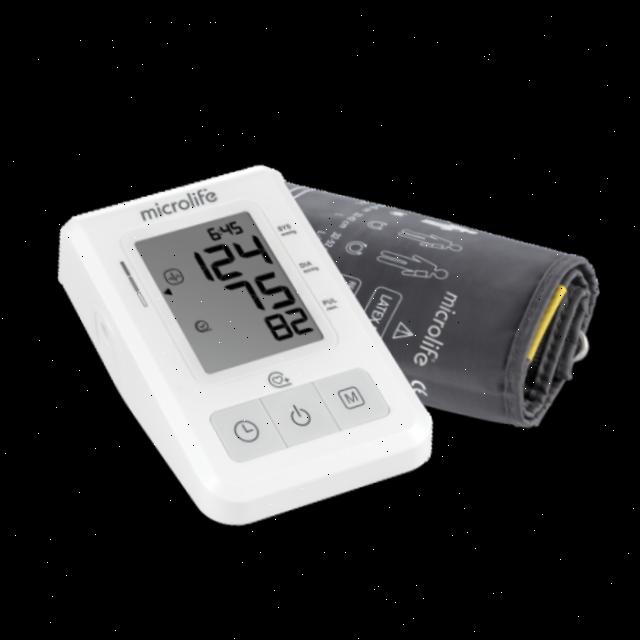dia: (213, 260, 297, 316)
pul: (254, 295, 313, 342)
ssd: (128, 184, 321, 395)
sys: (183, 222, 274, 287)
